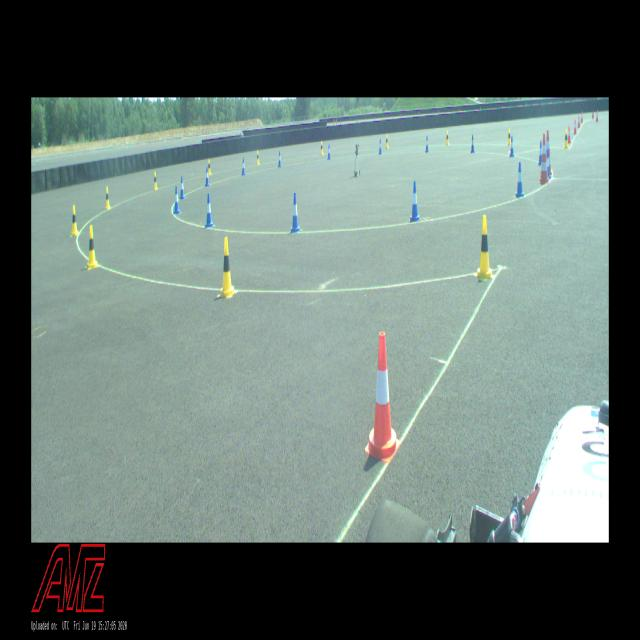blue_cone: (290, 192, 301, 233), (409, 181, 420, 222), (204, 194, 214, 228), (516, 162, 524, 198), (173, 186, 181, 214), (546, 150, 552, 179), (180, 177, 186, 198), (538, 141, 542, 164), (205, 168, 210, 186), (470, 135, 475, 153), (510, 136, 514, 156), (242, 158, 246, 175), (425, 136, 429, 152), (278, 151, 282, 167), (327, 145, 331, 159), (379, 138, 382, 154)
large_orange_cone: (539, 134, 549, 184), (546, 130, 552, 175)
orange_cone: (365, 332, 400, 462), (568, 126, 572, 143), (574, 119, 577, 134), (596, 110, 598, 122), (578, 115, 580, 127), (581, 111, 583, 122)
yellow_cone: (475, 215, 493, 279), (218, 236, 235, 298), (85, 226, 99, 270), (71, 205, 78, 236), (105, 187, 110, 210), (563, 130, 569, 148), (154, 172, 158, 189), (208, 159, 212, 175), (445, 131, 449, 145), (385, 135, 389, 148), (320, 142, 324, 154), (257, 150, 260, 164), (508, 128, 510, 144)
